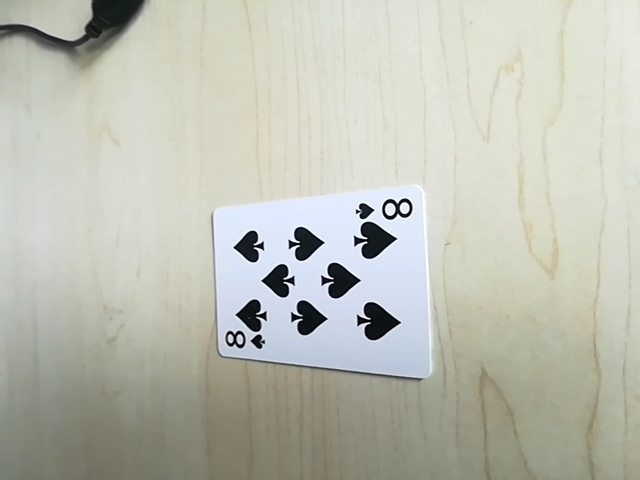ht 8: (356, 192, 420, 223), (216, 323, 267, 356)
